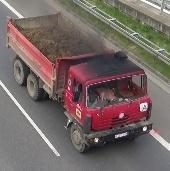Truck: (6, 12, 152, 153)
